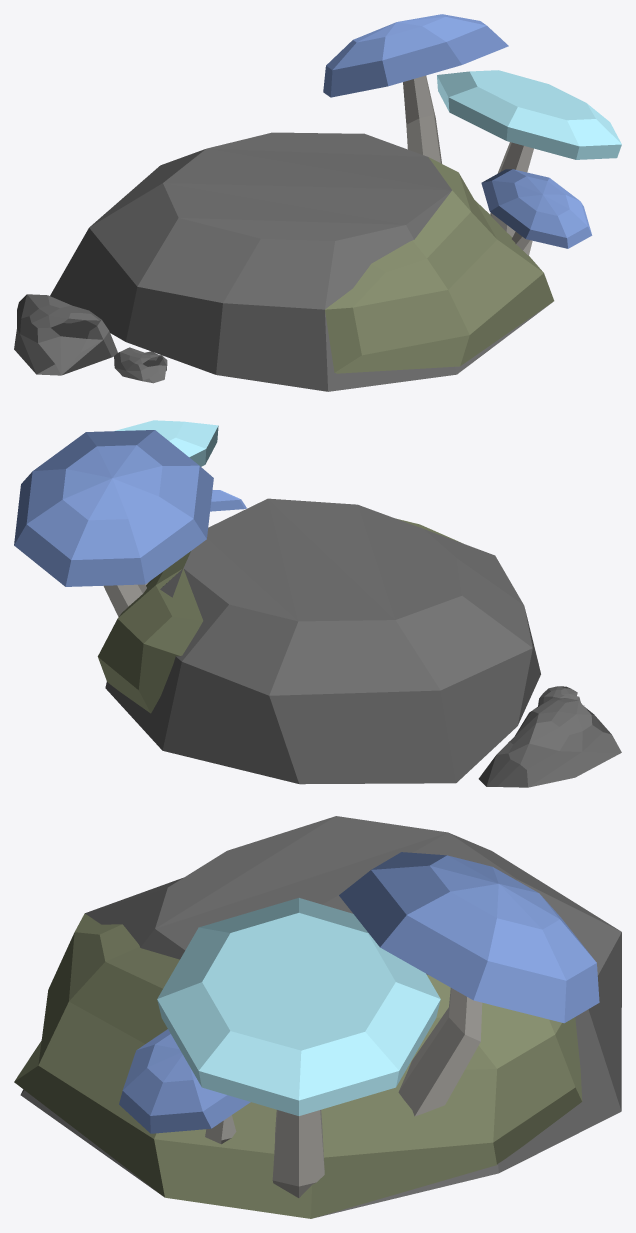
The model's file is RalphDwelling.fbx.
3 renders of one model, top to bottom at view 1: azimuth 30°, elevation 25°; view 2: azimuth 150°, elevation 25°; view 3: azimuth 270°, elevation 25°, orthographic. The views are drawn at different scales.
Visible parts, largest first — view 1: Ralph_Dwelling; view 2: Ralph_Dwelling; view 3: Ralph_Dwelling.
Part boxes in pixels (x1=…): Ralph_Dwelling: x1=14, y1=14, x2=621, y2=391; Ralph_Dwelling: x1=14, y1=420, x2=621, y2=787; Ralph_Dwelling: x1=14, y1=816, x2=621, y2=1218.
Bounding box in the file's own units: 6.25 × 2.34 × 4.11.
